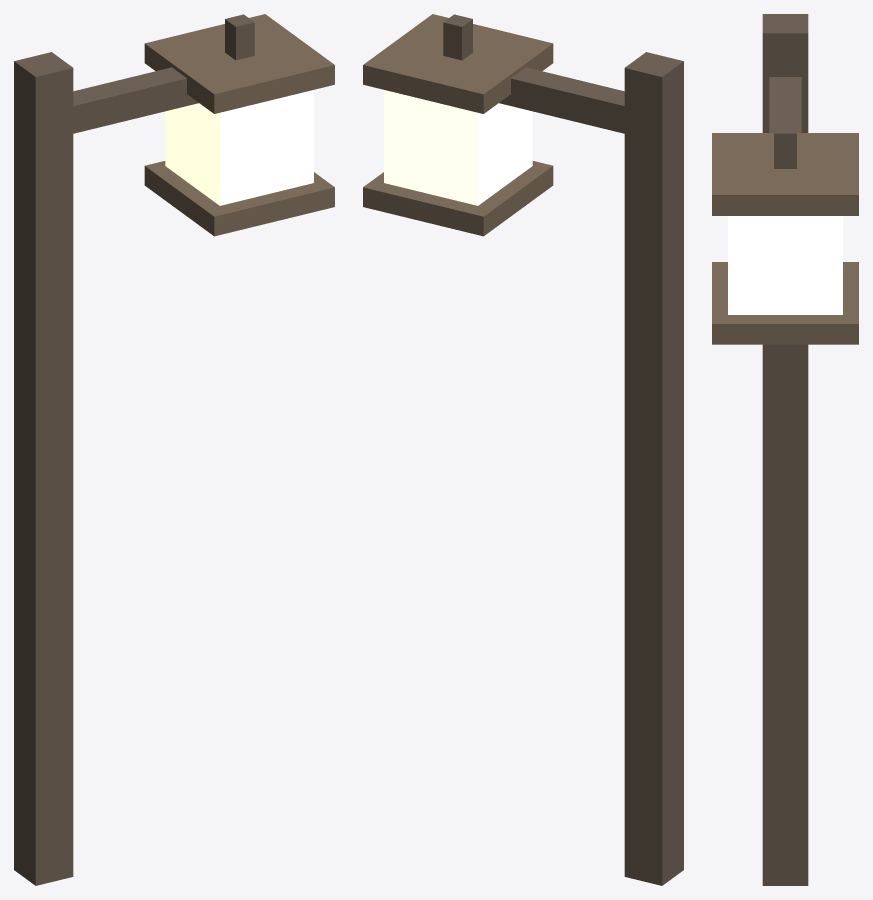
File: lamp_tall.glb
3 renders of one model, left to right at view 1: azimuth 30°, elevation 25°; view 2: azimuth 150°, elevation 25°; view 3: azimuth 270°, elevation 25°, orthographic. The views are drawn at different scales.
Parts seen in each view (by area): view 1: lamp_tall; view 2: lamp_tall; view 3: lamp_tall.
Boxes of the visible parts, <box> form: lamp_tall: <box>14,14,334,885</box>; lamp_tall: <box>363,14,683,885</box>; lamp_tall: <box>712,14,858,885</box>.
Bounding box in the file's own units: 0.73 × 2.05 × 0.32.
